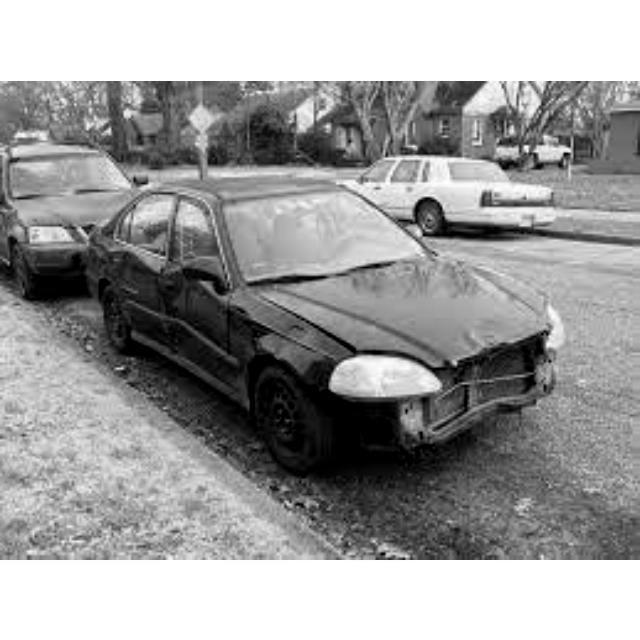doorouter-dent: (107, 241, 168, 342), (168, 270, 232, 366)
front-bumper-dent: (357, 357, 596, 443)
